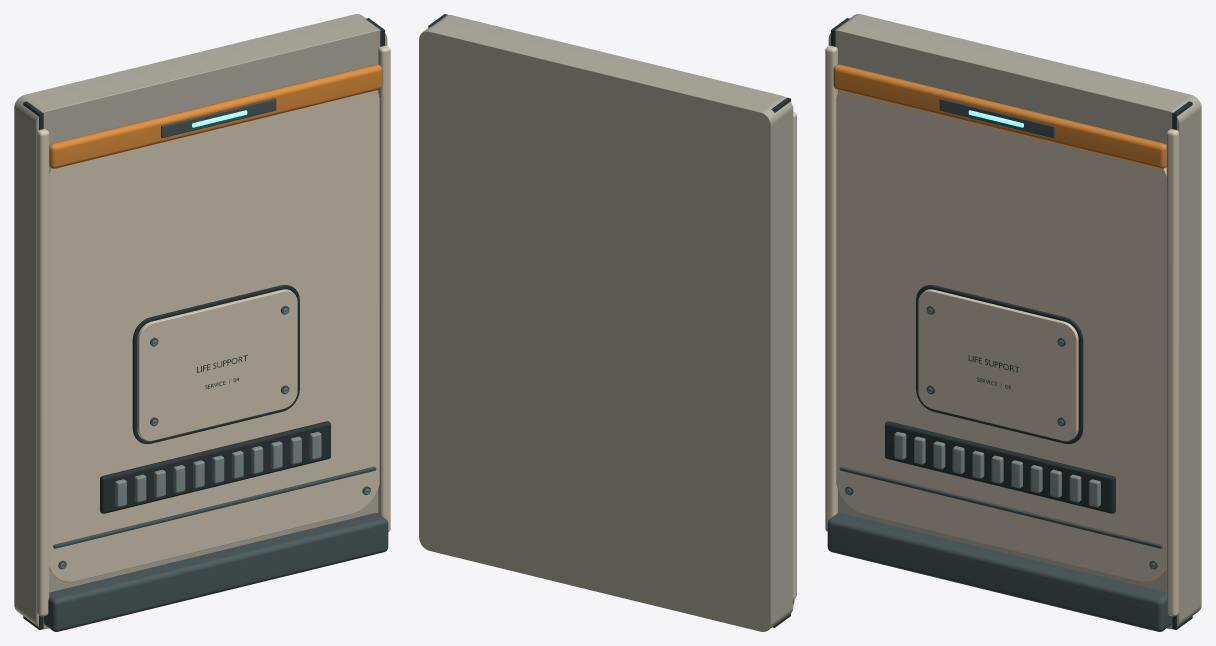
Rendered from wall-solid-2m.glb.
The picture shows the model from 3 angles, left to right: view 1: azimuth 30°, elevation 25°; view 2: azimuth 150°, elevation 25°; view 3: azimuth 330°, elevation 25°; orthographic projection.
Visible parts, largest first — view 1: wall-solid-2m / 01 • warm porcelain paint, wall-solid-2m / 02 • inner shell, wall-solid-2m / 06 • dark anodized frame, wall-solid-2m / 04 • graphite gasket, wall-solid-2m / 03 • ochre enamel, wall-solid-2m / 05 • brushed titanium; view 2: wall-solid-2m / 02 • inner shell, wall-solid-2m / 01 • warm porcelain paint; view 3: wall-solid-2m / 01 • warm porcelain paint, wall-solid-2m / 02 • inner shell, wall-solid-2m / 06 • dark anodized frame, wall-solid-2m / 04 • graphite gasket, wall-solid-2m / 03 • ochre enamel, wall-solid-2m / 05 • brushed titanium.
Part boxes in pixels (bbox=[...]): wall-solid-2m / 01 • warm porcelain paint: bbox=[36, 45, 390, 616]; wall-solid-2m / 02 • inner shell: bbox=[14, 14, 387, 629]; wall-solid-2m / 06 • dark anodized frame: bbox=[44, 98, 388, 631]; wall-solid-2m / 04 • graphite gasket: bbox=[23, 18, 384, 629]; wall-solid-2m / 03 • ochre enamel: bbox=[49, 64, 382, 168]; wall-solid-2m / 05 • brushed titanium: bbox=[60, 308, 369, 568]; wall-solid-2m / 02 • inner shell: bbox=[419, 15, 793, 631]; wall-solid-2m / 01 • warm porcelain paint: bbox=[793, 112, 796, 599]; wall-solid-2m / 01 • warm porcelain paint: bbox=[825, 45, 1179, 616]; wall-solid-2m / 02 • inner shell: bbox=[828, 14, 1201, 629]; wall-solid-2m / 06 • dark anodized frame: bbox=[827, 98, 1171, 631]; wall-solid-2m / 04 • graphite gasket: bbox=[831, 18, 1192, 629]; wall-solid-2m / 03 • ochre enamel: bbox=[833, 64, 1166, 168]; wall-solid-2m / 05 • brushed titanium: bbox=[846, 308, 1155, 568].
Size of the model in its own units: 1.99 by 2.8 by 0.3203.
